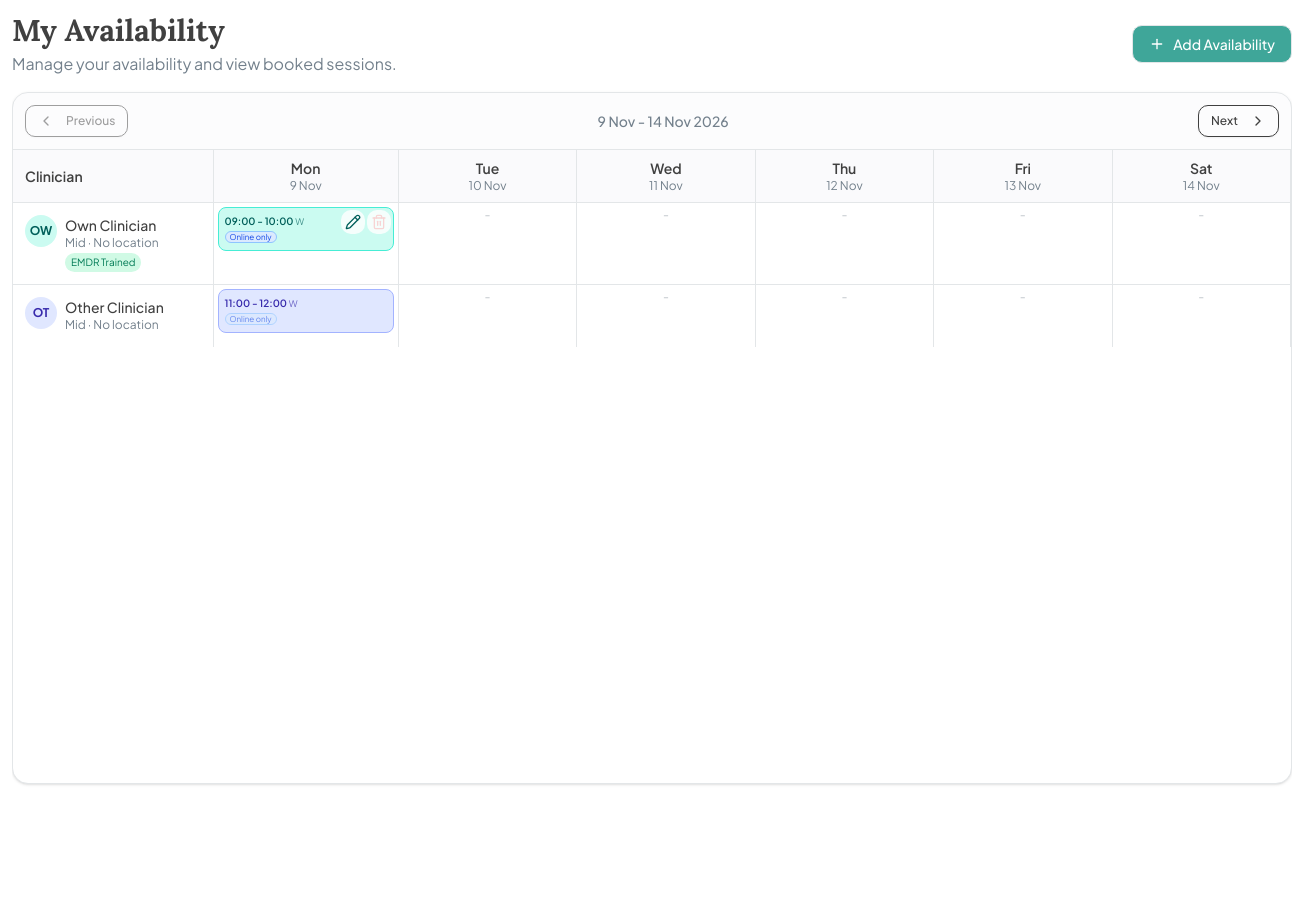
Test case: uses CY&A availability wording for free-slot badges and toggles without changing stored values
The width and height of the screenshot is (1304, 912).
Click the button with test id "button-toggle-location-own-slot". click: click(251, 237)
box: [224,231,277,243]
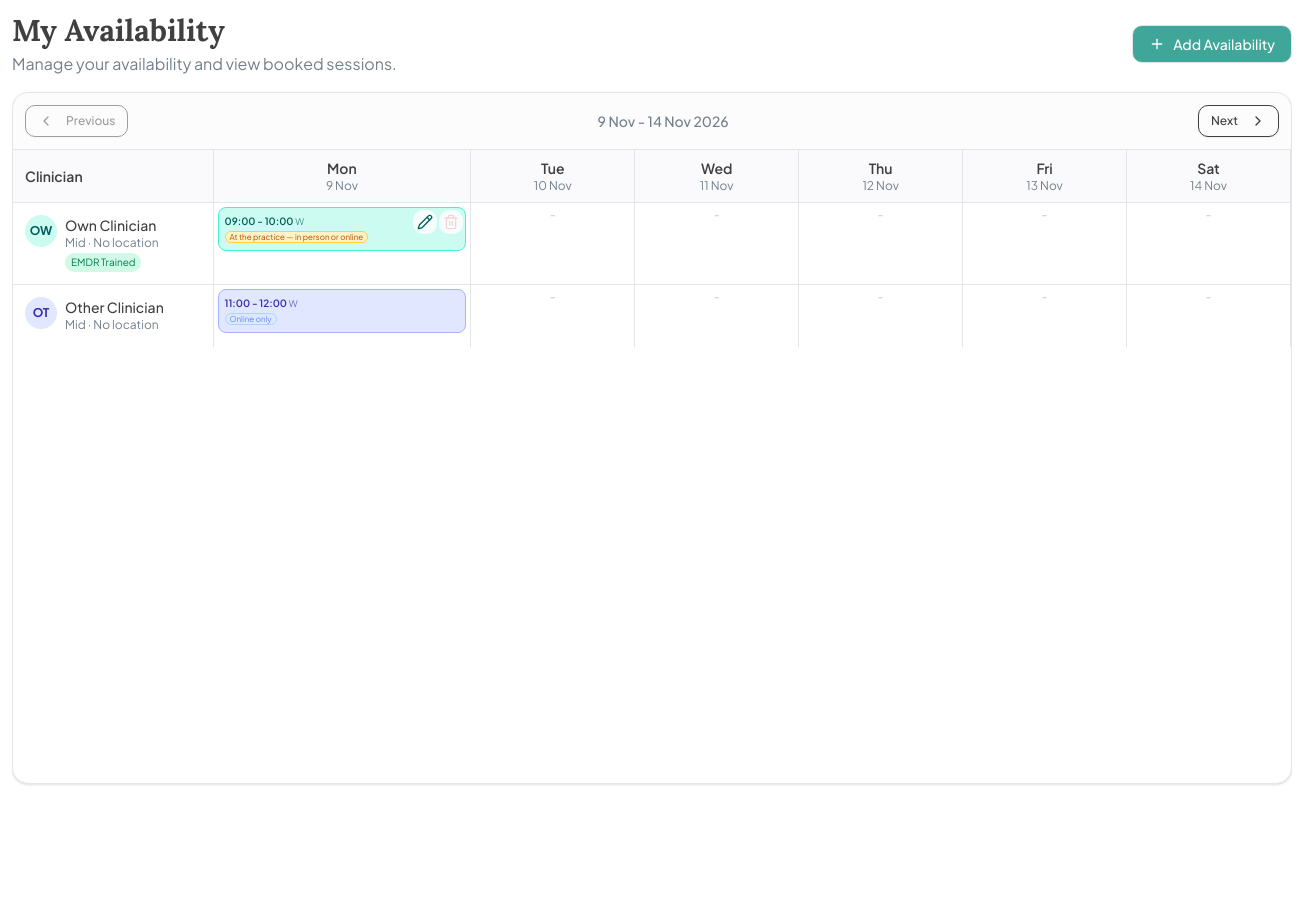
Expected: the button with test id "button-toggle-location-own-slot" reads "At the practice — in person or online", [224,231,368,243]
